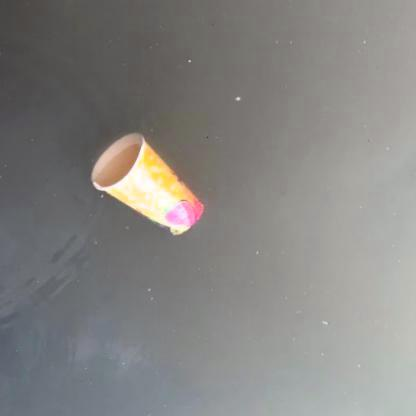Plastic: (89, 130, 207, 240)
